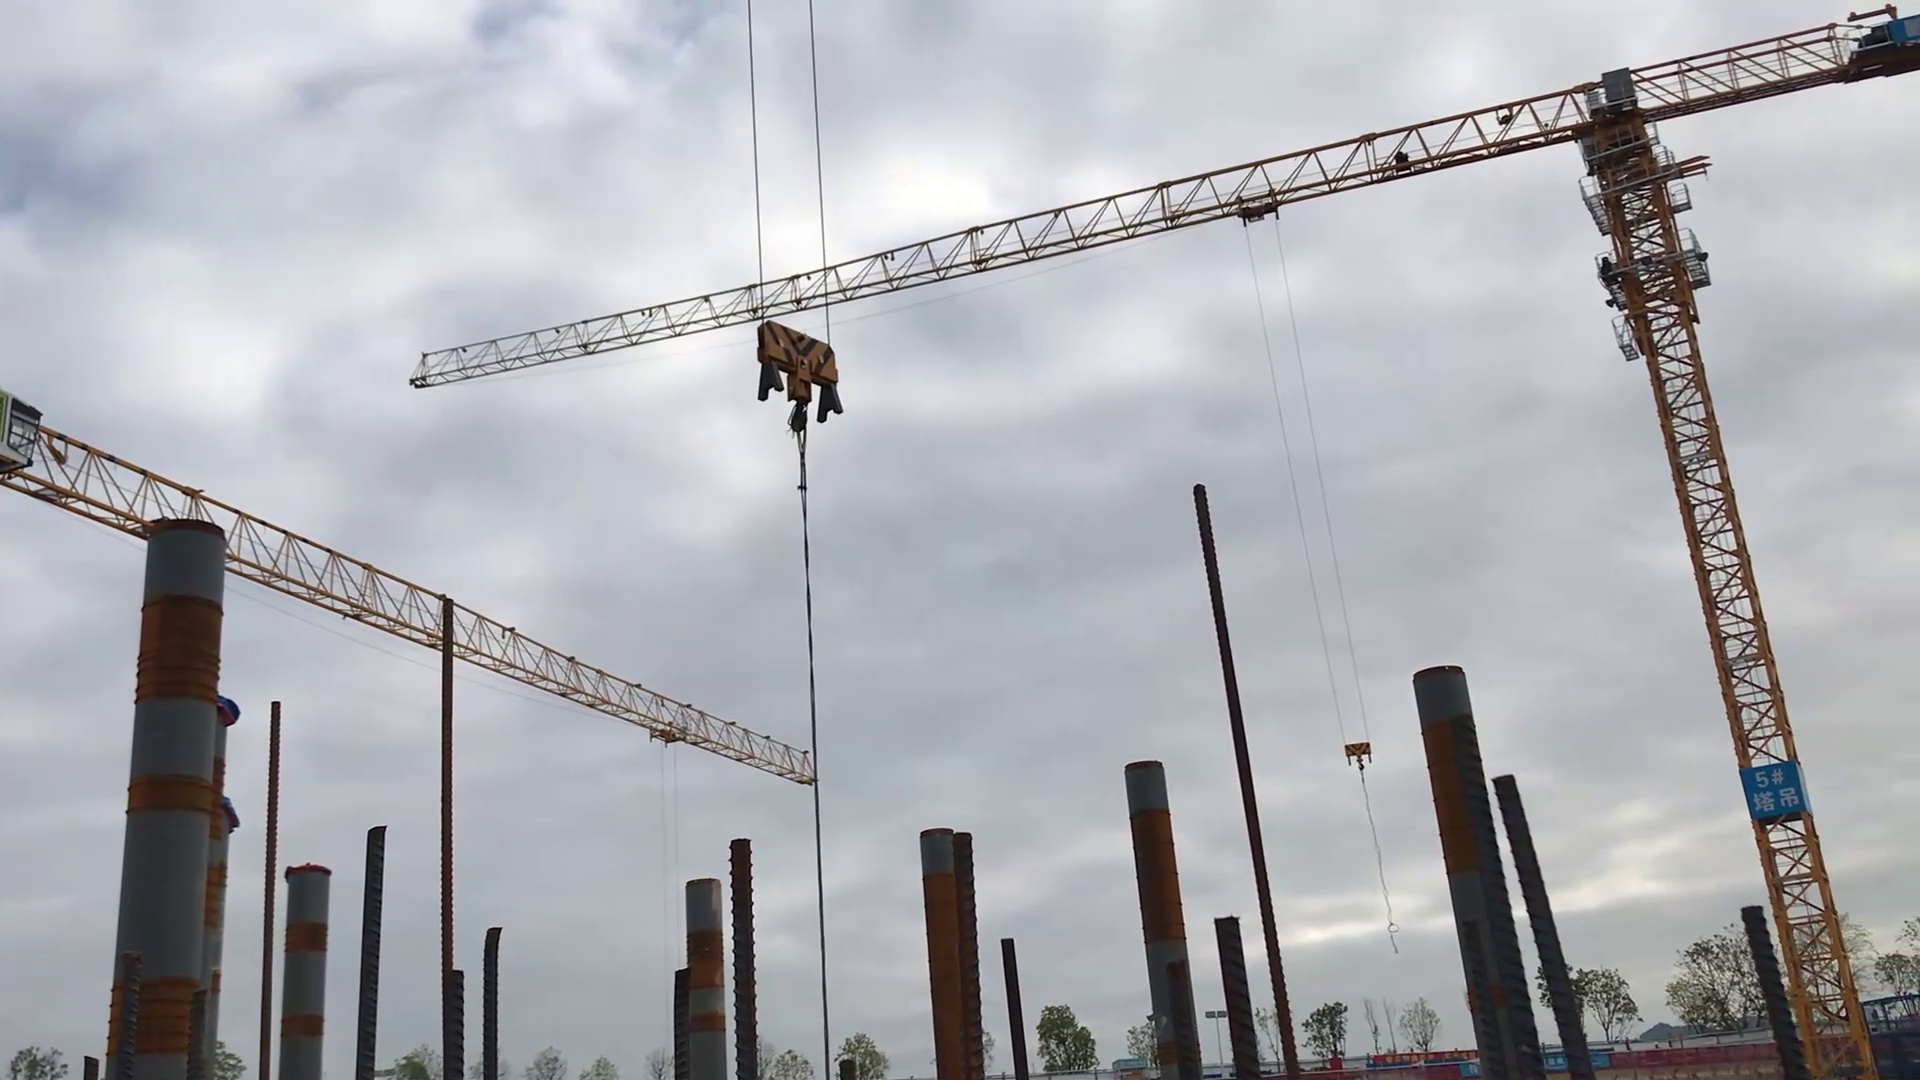fence: (1619, 1025, 1774, 1080)
hook: (745, 303, 848, 447), (1338, 736, 1383, 779)
slogan: (1731, 752, 1818, 828)
